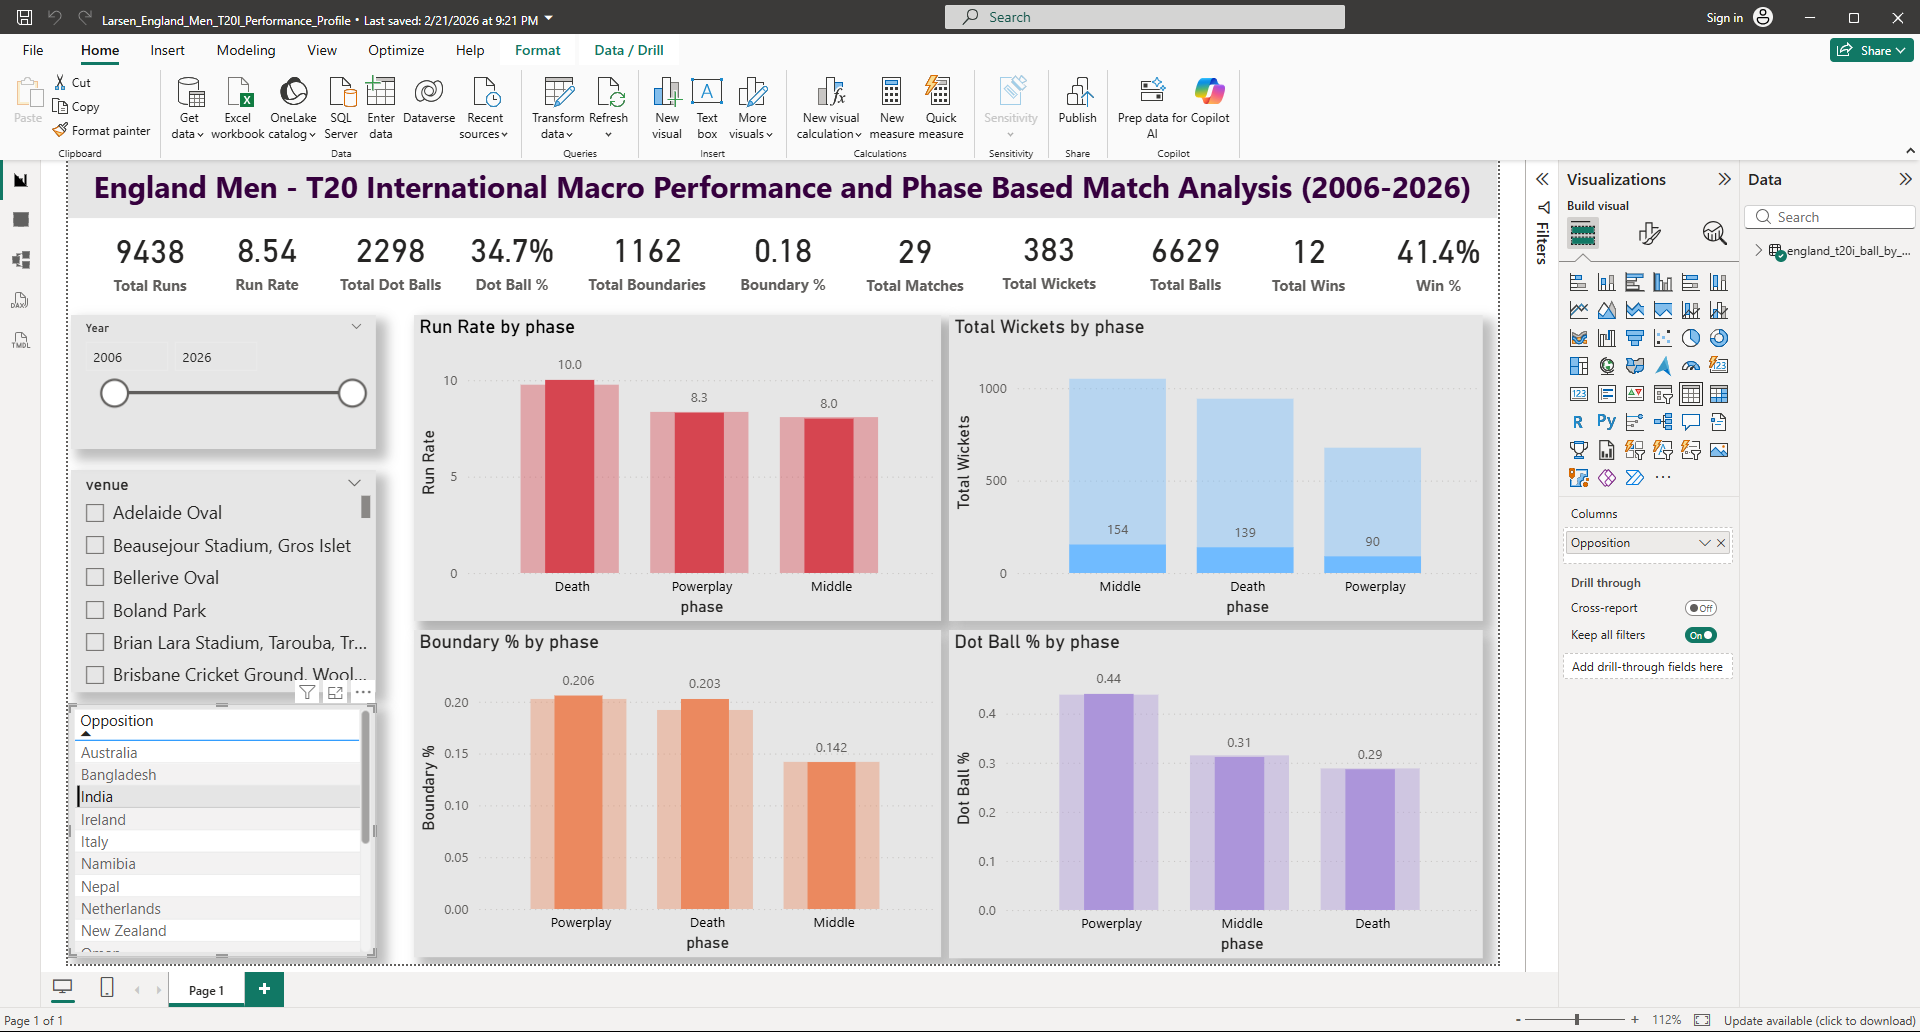

What the dashboard file says about the page in this screenshot:
{"tool":"powerbi","page":{"name":"Page 1","canvas":[1280,720],"ordinal":0},"visuals":[{"type":"card","fields":{"Values":["england_t20i_ball_by_ball_clean.Total Balls"]},"box":[943.9,51.9,113.7,71.6],"z":0},{"type":"card","fields":{"Values":["england_t20i_ball_by_ball_clean.Total Boundaries"]},"box":[459.4,51.9,118.2,71.6],"z":1000},{"type":"card","fields":{"Values":["england_t20i_ball_by_ball_clean.Total Dot Balls"]},"box":[231.9,51.9,113.7,71.6],"z":2000},{"type":"card","fields":{"Values":["england_t20i_ball_by_ball_clean.Total Runs"]},"box":[22.4,51.9,102.1,73.4],"z":3000},{"type":"card","fields":{"Values":["england_t20i_ball_by_ball_clean.Total Wickets"]},"box":[823.9,51.9,109.3,69.9],"z":4000},{"type":"card","fields":{"Values":["england_t20i_ball_by_ball_clean.Dot Ball %"]},"box":[345.7,51.9,103.9,71.6],"z":5000},{"type":"card","fields":{"Values":["england_t20i_ball_by_ball_clean.Boundary %"]},"box":[585.7,51.9,109.3,71.6],"z":6000},{"type":"slicer","fields":{"Values":["england_t20i_ball_by_ball_clean.venue"]},"box":[2.7,277.6,273.1,198.8],"z":7000},{"type":"clusteredColumnChart","fields":{"Category":["england_t20i_ball_by_ball_clean.phase"],"Y":["england_t20i_ball_by_ball_clean.Run Rate"]},"box":[309.9,138.8,471.9,274],"z":8000},{"type":"card","fields":{"Values":["england_t20i_ball_by_ball_clean.Run Rate"]},"box":[124.5,51.9,107.5,71.6],"z":9000},{"type":"clusteredColumnChart","fields":{"Category":["england_t20i_ball_by_ball_clean.phase"],"Y":["england_t20i_ball_by_ball_clean.Boundary %"]},"box":[309.9,420.9,471.9,292.8],"z":10000},{"type":"clusteredColumnChart","fields":{"Category":["england_t20i_ball_by_ball_clean.phase"],"Y":["england_t20i_ball_by_ball_clean.Total Wickets"]},"box":[789,138.8,478.2,274],"z":11000},{"type":"clusteredColumnChart","fields":{"Category":["england_t20i_ball_by_ball_clean.phase"],"Y":["england_t20i_ball_by_ball_clean.Dot Ball %"]},"box":[789,420.9,478.2,293.7],"z":12000},{"type":"tableEx","fields":{"Values":["england_t20i_ball_by_ball_clean.Opposition"]},"box":[0,487.2,275.8,226.6],"z":13000},{"type":"slicer","fields":{"Values":["england_t20i_ball_by_ball_clean.Year"]},"box":[2.7,138.8,273.1,120],"z":14000},{"type":"card","fields":{"Values":["england_t20i_ball_by_ball_clean.Total Matches"]},"box":[704.8,51.9,107.5,73.4],"z":15000},{"type":"card","fields":{"Values":["england_t20i_ball_by_ball_clean.Total Wins"]},"box":[1057.6,51.9,106.6,73.4],"z":16000},{"type":"card","fields":{"Values":["england_t20i_ball_by_ball_clean.Win %"]},"box":[1174.9,51.9,104.8,73.4],"z":17000},{"type":"textbox","box":[0,0,1279.7,51.9],"z":17001}]}

Visuals, with their boxes on the page's 1280x720 design canvas (x1, y1, x2, y2). These are canvas units, not pixel positions in the 1920x1032 screenshot, which may show the page scaled, cropped or inside an application window:
card - england_t20i_ball_by_ball_clean.Total Balls: region(944, 52, 1058, 124)
card - england_t20i_ball_by_ball_clean.Total Boundaries: region(459, 52, 578, 124)
card - england_t20i_ball_by_ball_clean.Total Dot Balls: region(232, 52, 346, 124)
card - england_t20i_ball_by_ball_clean.Total Runs: region(22, 52, 124, 125)
card - england_t20i_ball_by_ball_clean.Total Wickets: region(824, 52, 933, 122)
card - england_t20i_ball_by_ball_clean.Dot Ball %: region(346, 52, 450, 124)
card - england_t20i_ball_by_ball_clean.Boundary %: region(586, 52, 695, 124)
slicer - england_t20i_ball_by_ball_clean.venue: region(3, 278, 276, 476)
clusteredColumnChart - england_t20i_ball_by_ball_clean.phase x england_t20i_ball_by_ball_clean.Run Rate: region(310, 139, 782, 413)
card - england_t20i_ball_by_ball_clean.Run Rate: region(124, 52, 232, 124)
clusteredColumnChart - england_t20i_ball_by_ball_clean.phase x england_t20i_ball_by_ball_clean.Boundary %: region(310, 421, 782, 714)
clusteredColumnChart - england_t20i_ball_by_ball_clean.phase x england_t20i_ball_by_ball_clean.Total Wickets: region(789, 139, 1267, 413)
clusteredColumnChart - england_t20i_ball_by_ball_clean.phase x england_t20i_ball_by_ball_clean.Dot Ball %: region(789, 421, 1267, 715)
tableEx - england_t20i_ball_by_ball_clean.Opposition: region(0, 487, 276, 714)
slicer - england_t20i_ball_by_ball_clean.Year: region(3, 139, 276, 259)
card - england_t20i_ball_by_ball_clean.Total Matches: region(705, 52, 812, 125)
card - england_t20i_ball_by_ball_clean.Total Wins: region(1058, 52, 1164, 125)
card - england_t20i_ball_by_ball_clean.Win %: region(1175, 52, 1280, 125)
textbox: region(0, 0, 1280, 52)
